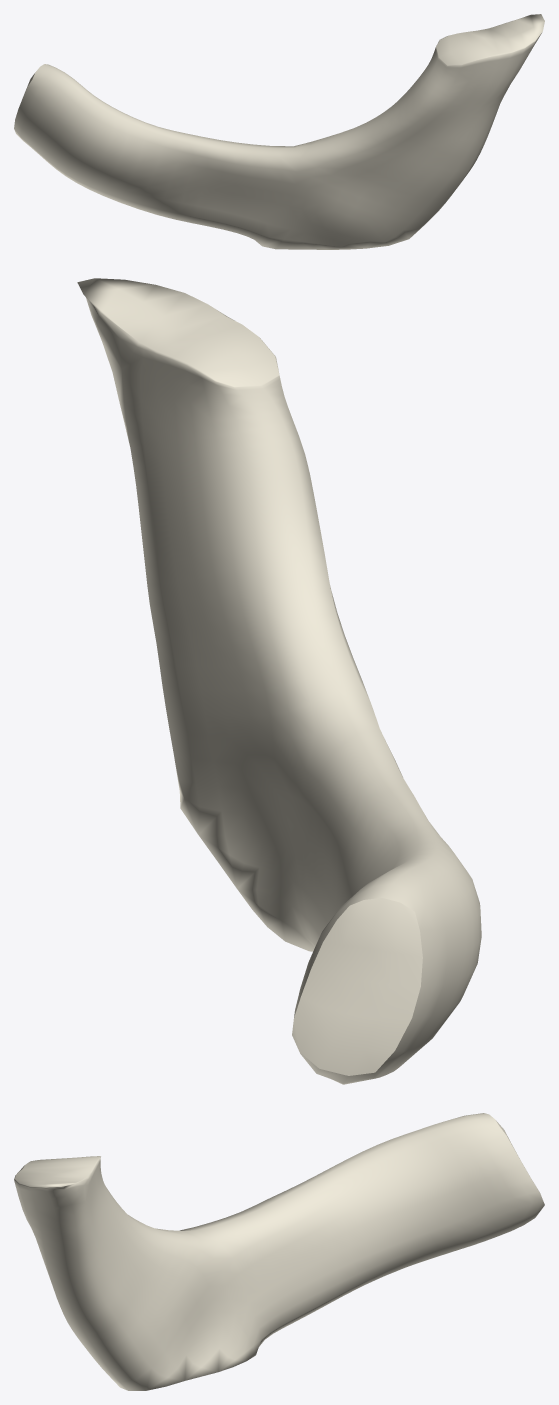
The picture shows the model from 3 angles, top to bottom: view 1: azimuth 30°, elevation 25°; view 2: azimuth 150°, elevation 25°; view 3: azimuth 270°, elevation 25°; orthographic projection. The views are drawn at different scales.
Visible parts, largest first — view 1: ZA_d85f5535e4db846e; view 2: ZA_d85f5535e4db846e; view 3: ZA_d85f5535e4db846e.
Part boxes in pixels (x1,y1,x2,y2): ZA_d85f5535e4db846e: (14, 14, 544, 249); ZA_d85f5535e4db846e: (77, 278, 481, 1084); ZA_d85f5535e4db846e: (14, 1113, 544, 1390).
Bounding box in the file's own units: 0.0619 × 0.0394 × 0.0667.
